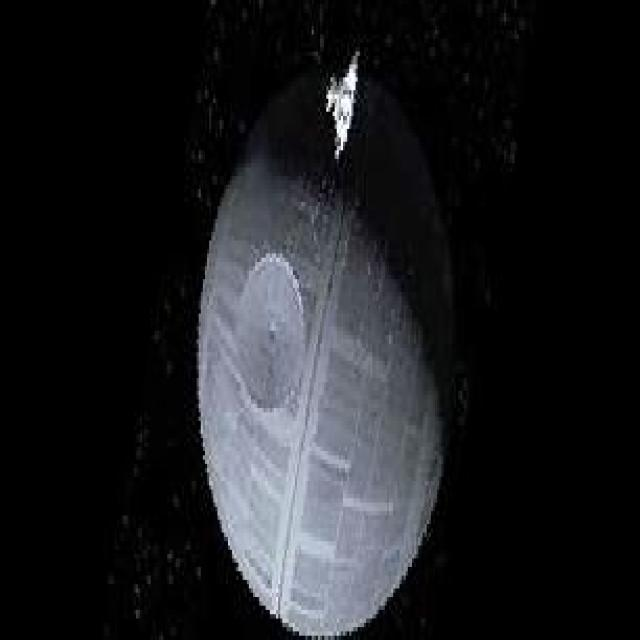Death Star: (196, 79, 464, 638)
